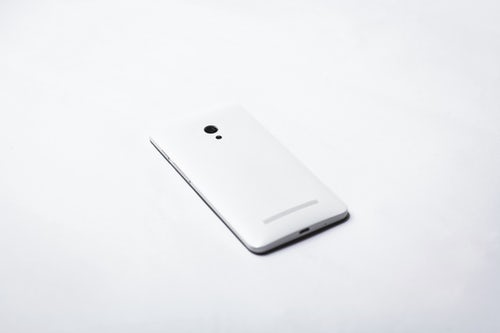phone: (143, 104, 356, 252)
